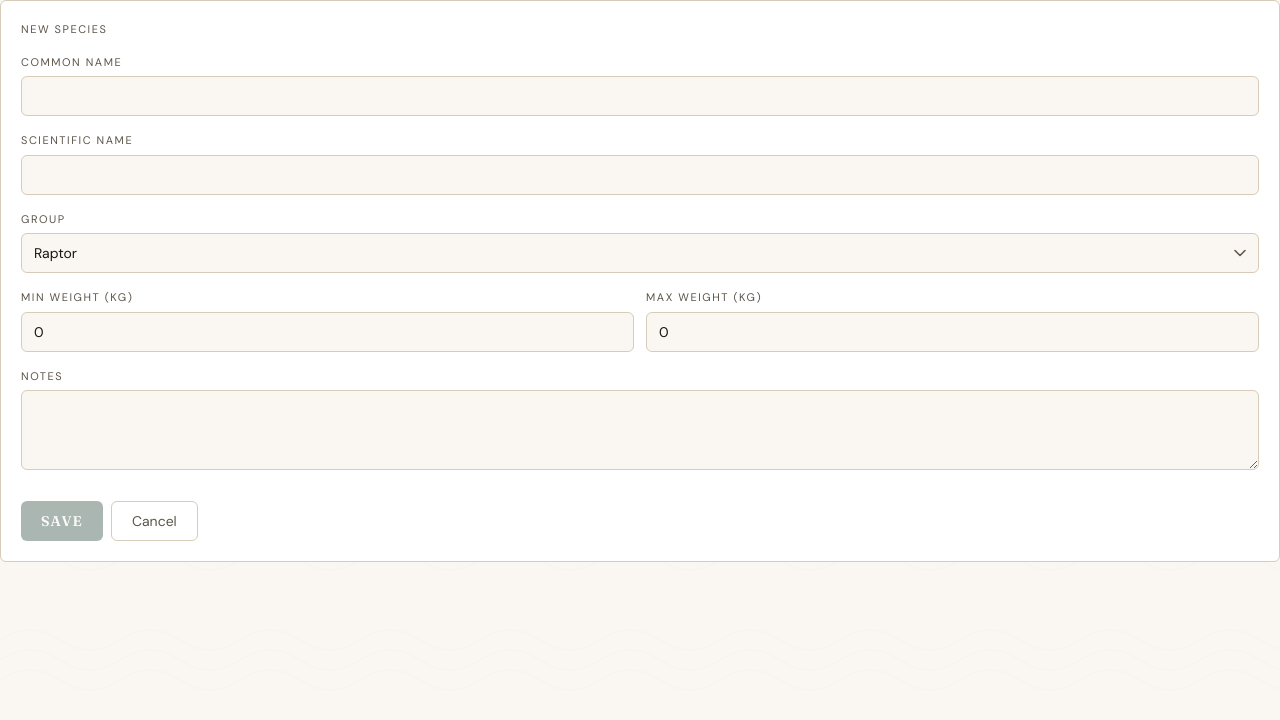
SpeciesEditor › says so when a concurrent create took the same slug
In the field labelled "Common name": (640, 96) [21,76,1259,116], type "Wood Stork"
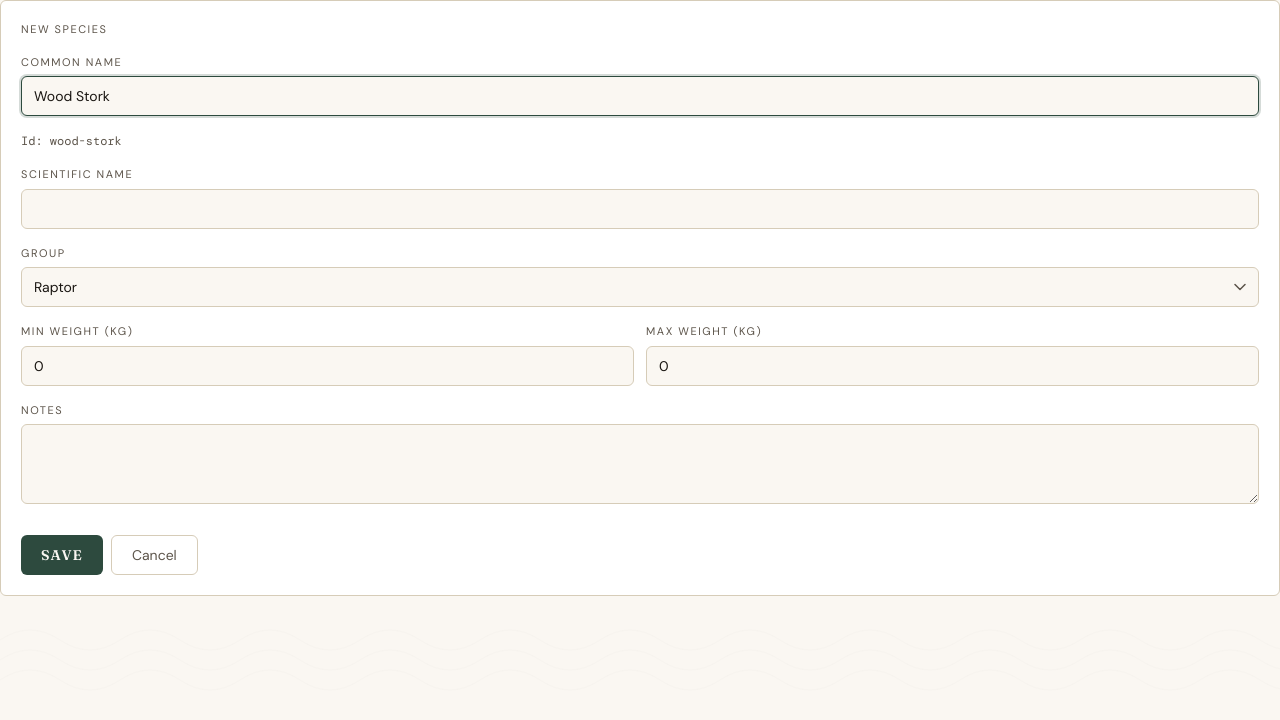
Click the button "Save": (62, 555) [21,535,103,575]
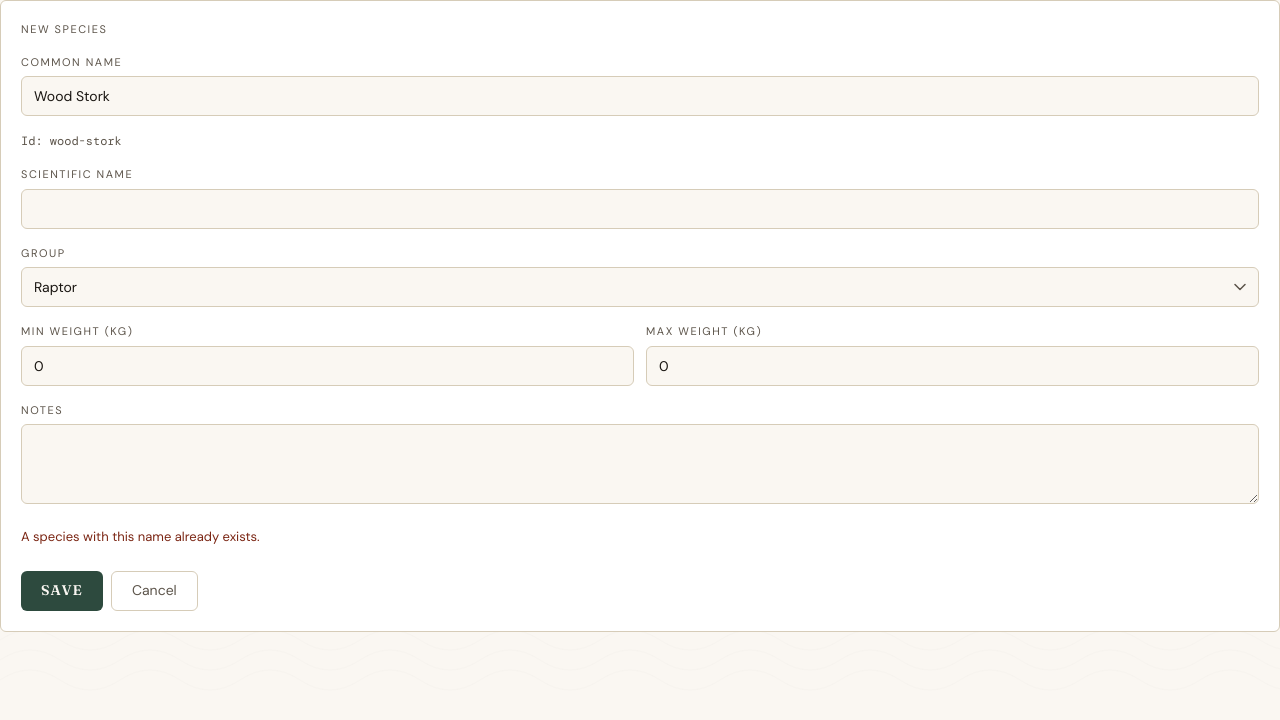
Now the button "Save" is enabled, box [21,570,103,610]
Now the text "A species with this name already exists." is shown, box [21,528,260,545]
